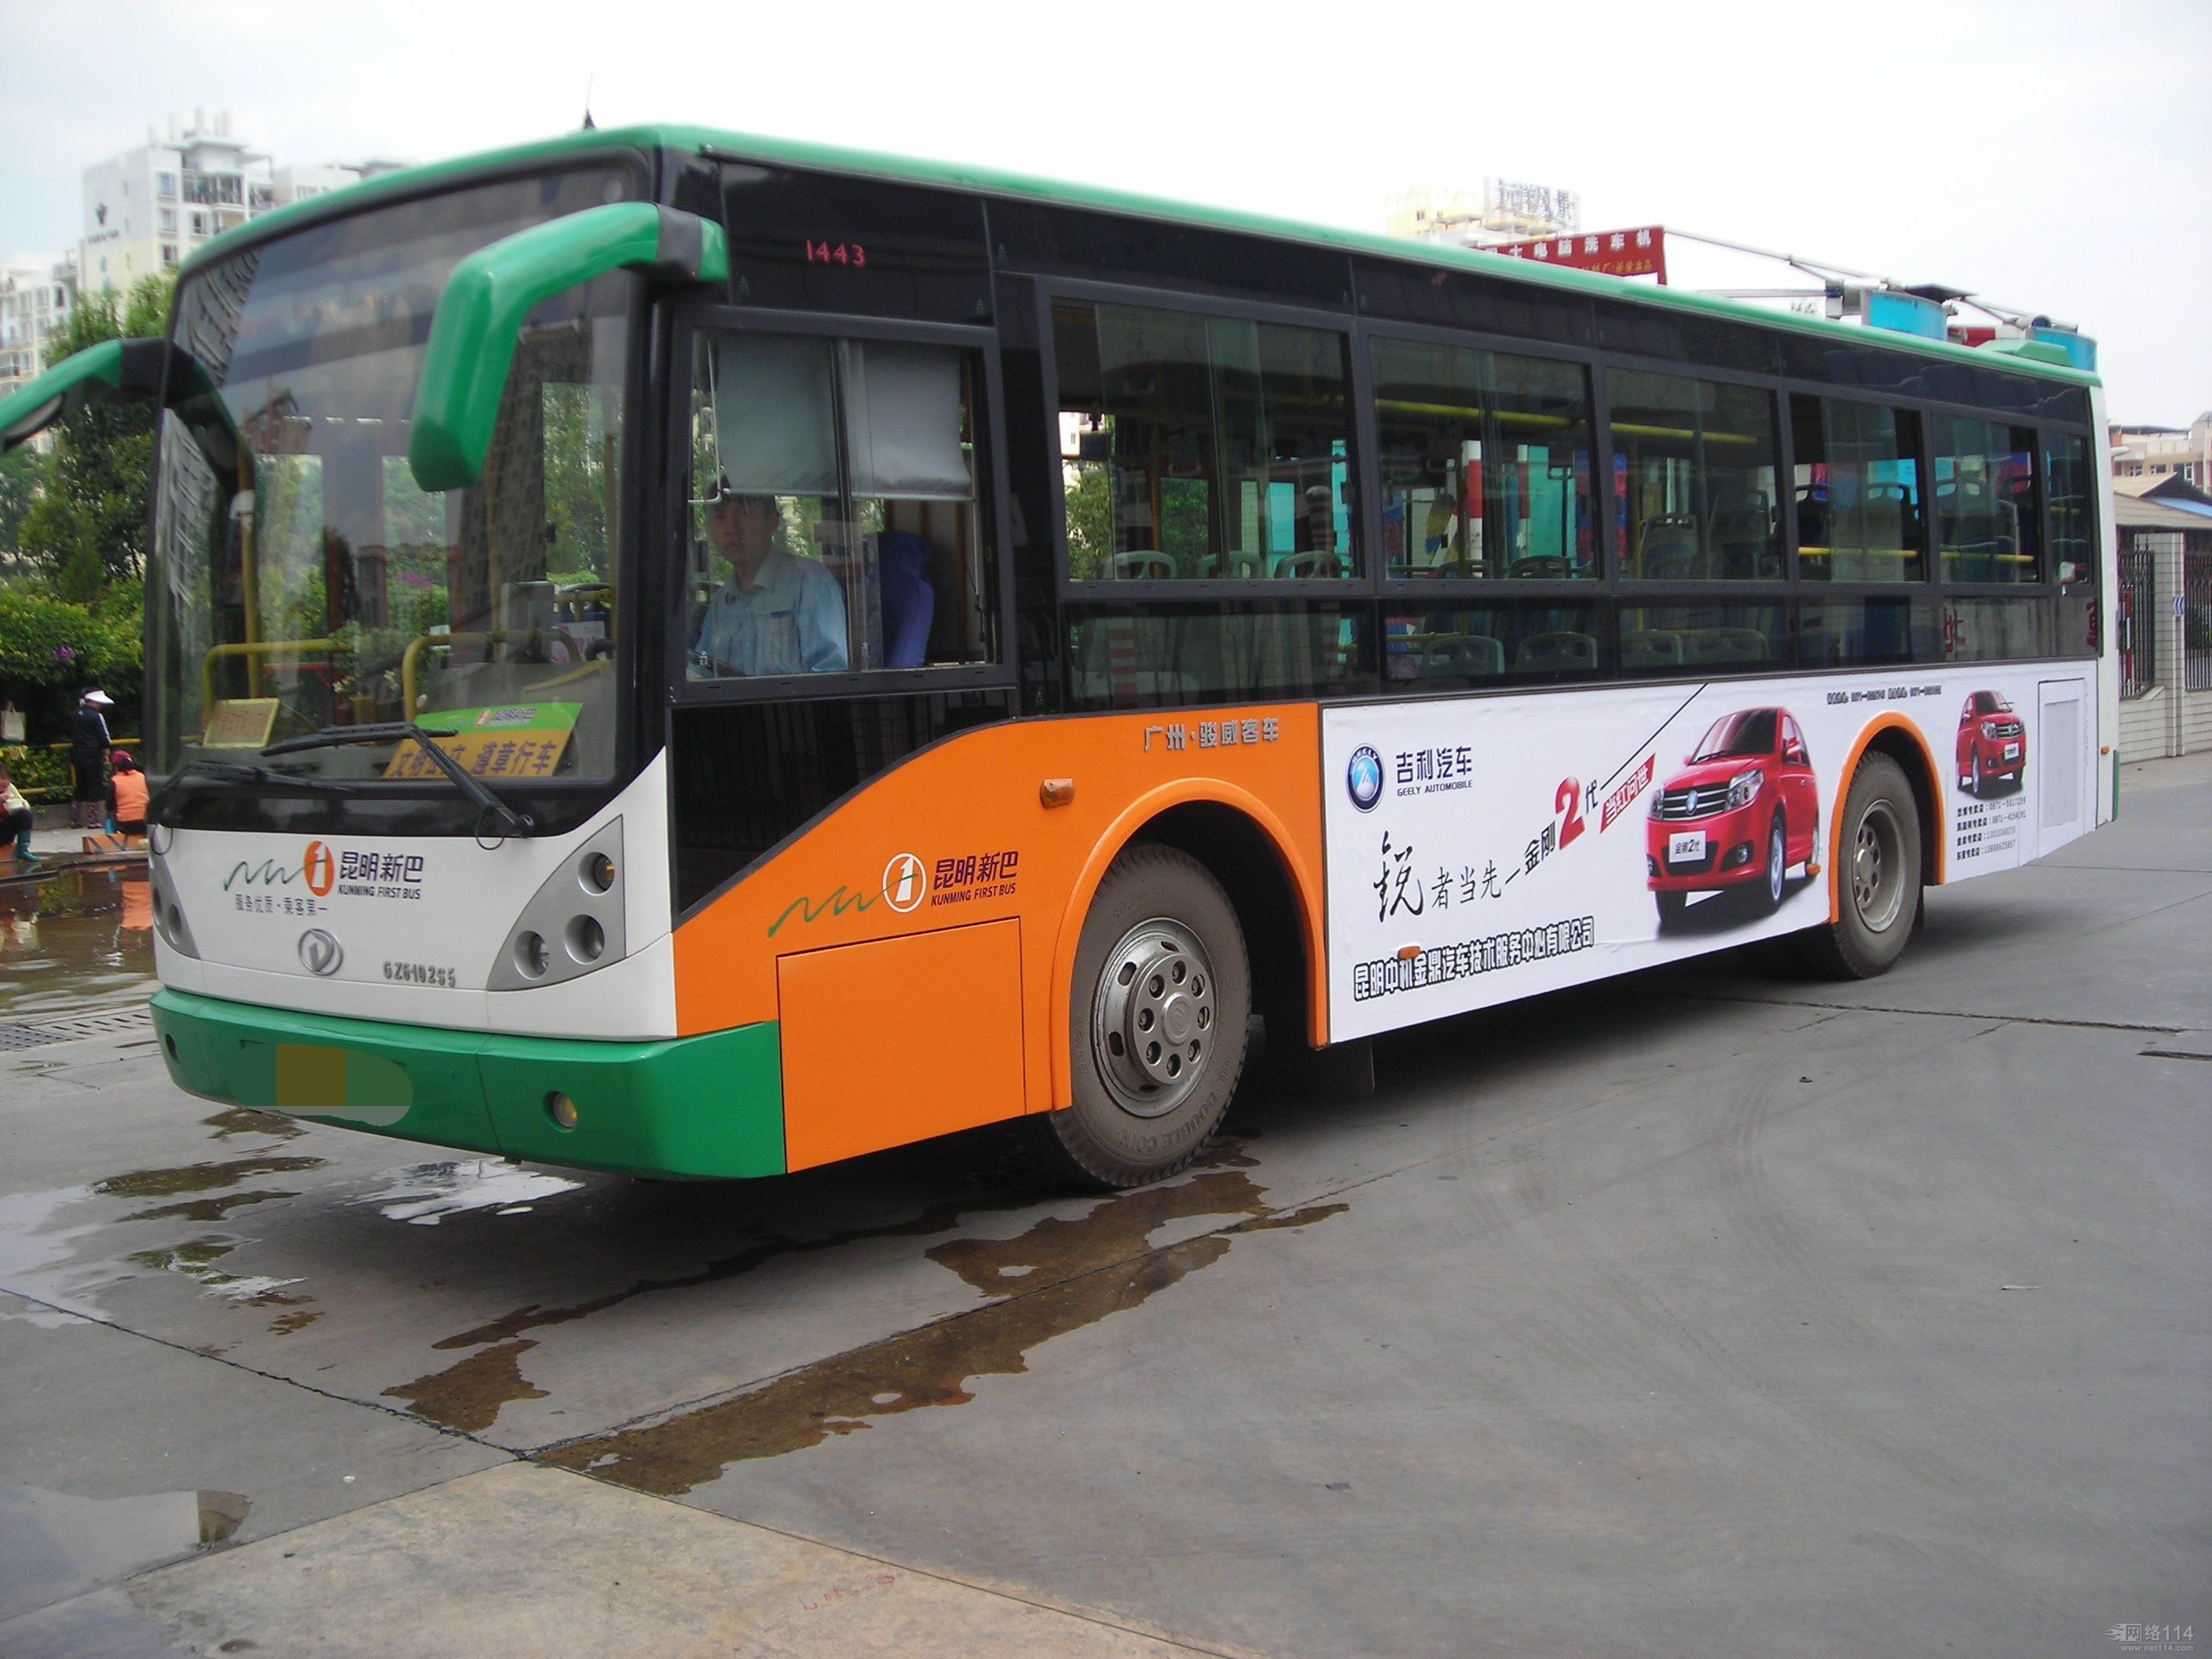bus: (120, 136, 2142, 1187)
